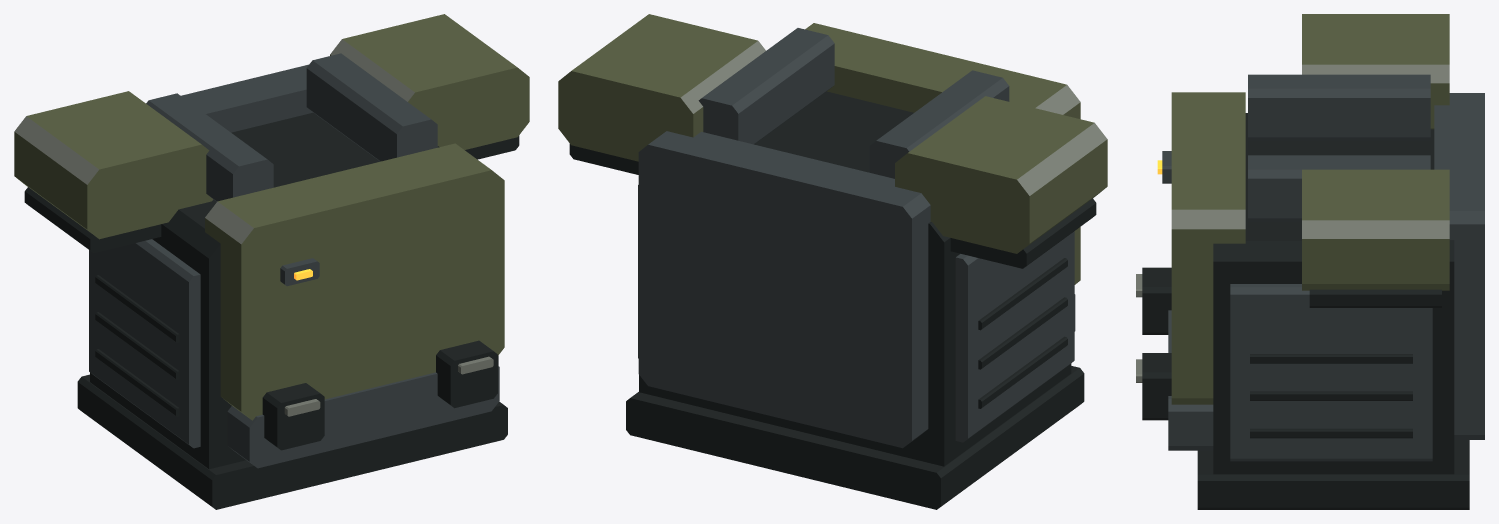
Rendered from SteelArmor.gltf.
The picture shows the model from 3 angles, left to right: view 1: azimuth 30°, elevation 25°; view 2: azimuth 150°, elevation 25°; view 3: azimuth 270°, elevation 25°; orthographic projection. The views are drawn at different scales.
Visible parts, largest first — view 1: Chest, ShoulderRight, ShoulderLeft; view 2: Chest, ShoulderRight, ShoulderLeft; view 3: Chest, ShoulderLeft, ShoulderRight.
Part boxes in pixels (x1=…): Chest: x1=77, y1=53, x2=507, y2=509; ShoulderRight: x1=14, y1=91, x2=213, y2=252; ShoulderLeft: x1=330, y1=14, x2=529, y2=159; Chest: x1=626, y1=23, x2=1084, y2=509; ShoulderRight: x1=895, y1=96, x2=1107, y2=268; ShoulderLeft: x1=558, y1=14, x2=765, y2=174; Chest: x1=1136, y1=74, x2=1484, y2=509; ShoulderLeft: x1=1302, y1=169, x2=1449, y2=307; ShoulderRight: x1=1302, y1=14, x2=1449, y2=129.
Size of the model in its own units: 0.664 by 0.457 by 0.449.
